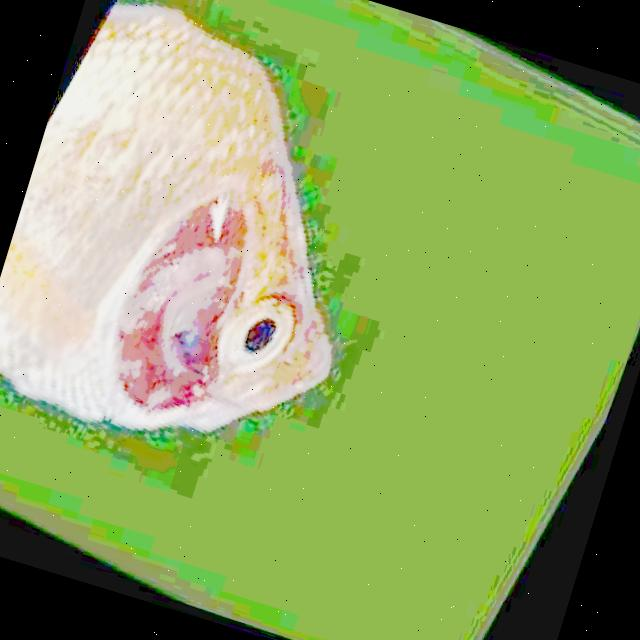Flavobacterium -Bacterial Gill Disease-: (0, 6, 329, 429), (0, 6, 329, 428), (0, 5, 328, 428)
